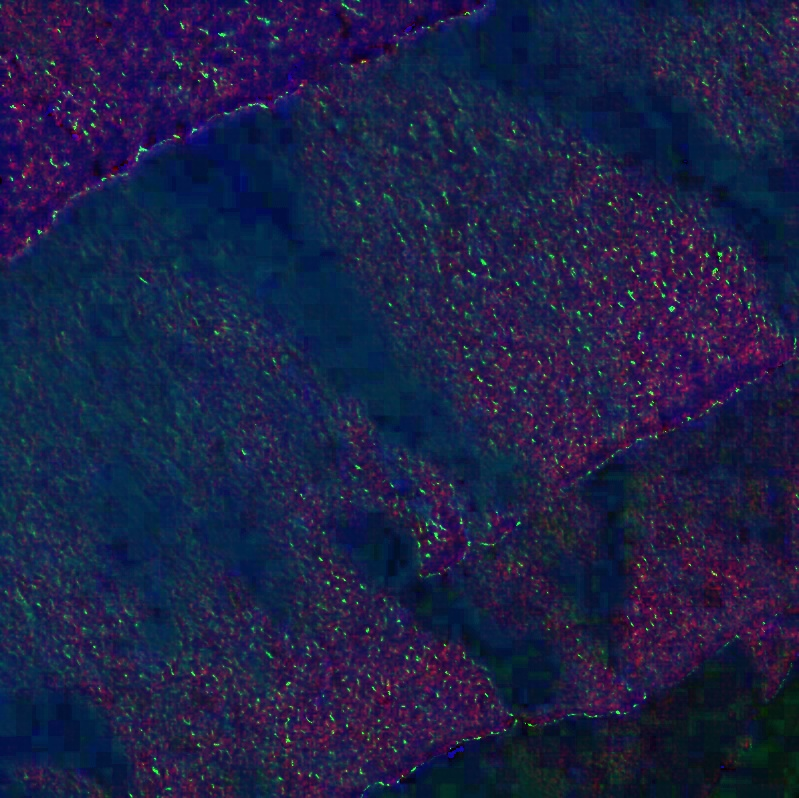rip_current: (115, 149, 566, 606)
